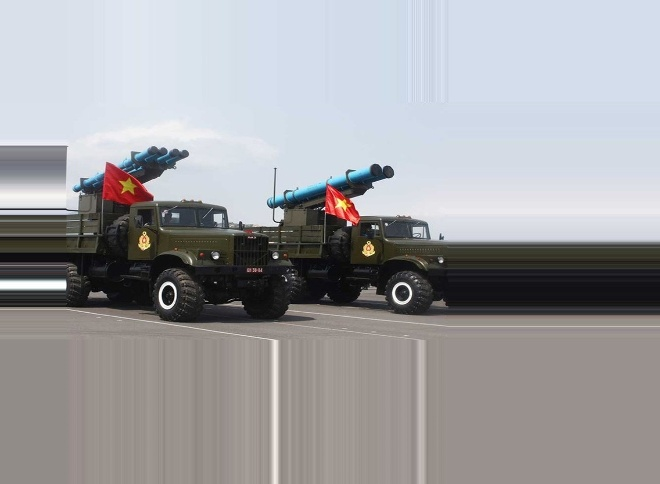plate: (245, 264, 265, 274)
